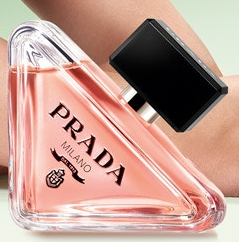prada_paradoxe: (6, 13, 231, 236)
